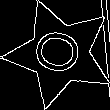O_E: (29, 27, 90, 81)
